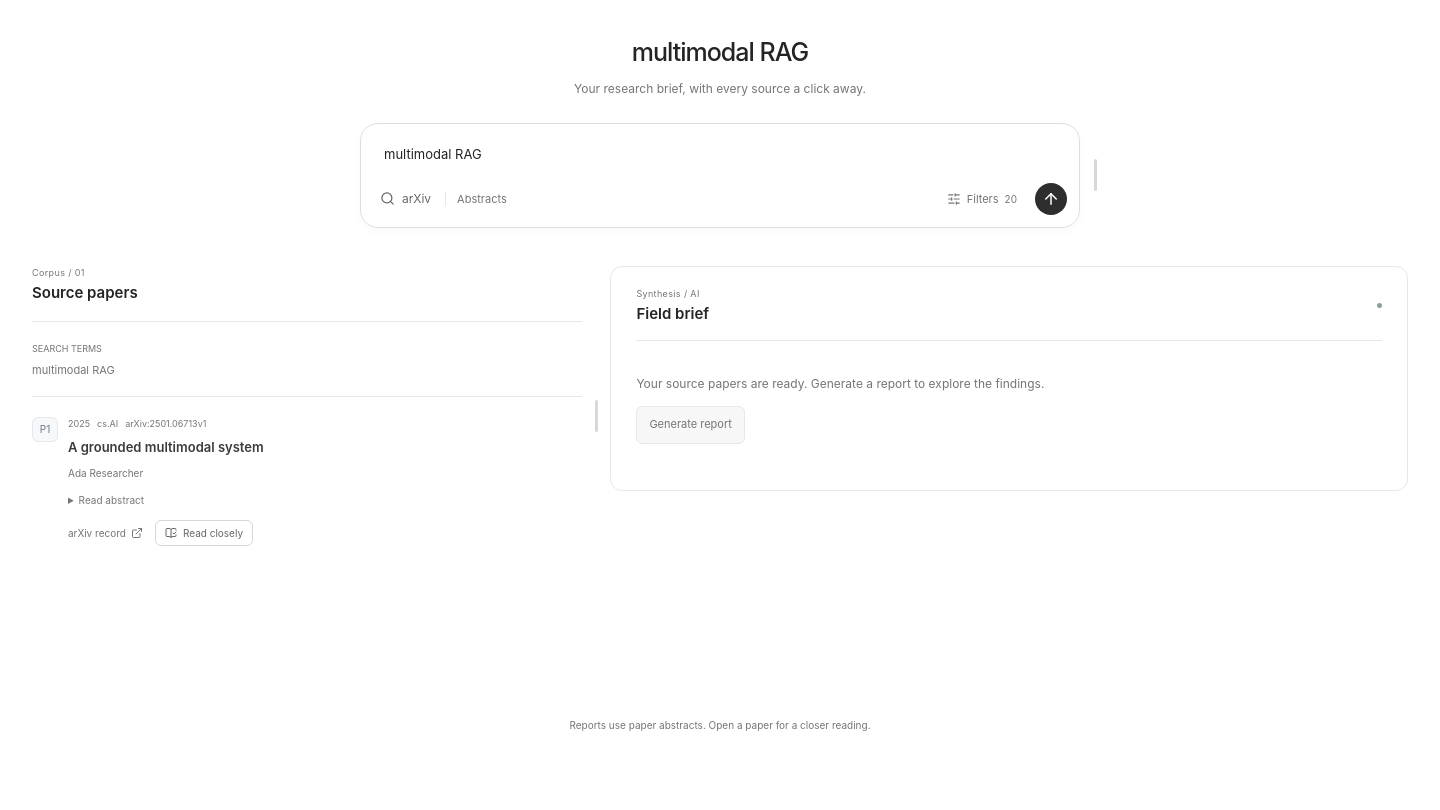
Scenario: ResearchDesk › explains an exhausted model budget without treating it as a completed report
This screenshot has width=1440, height=810.
Click the button "Generate report": (691, 425) [636,406,745,444]
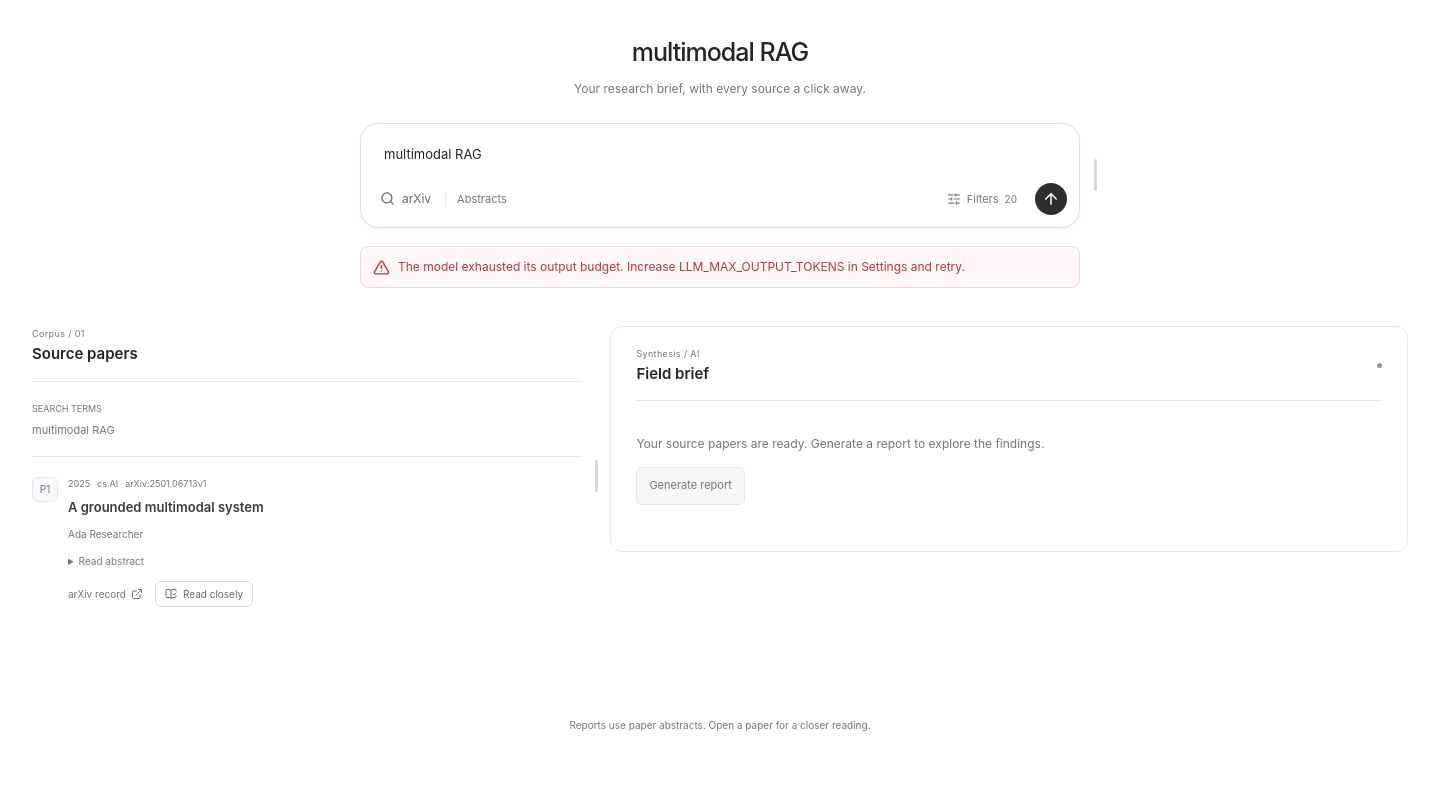
Expected: the button "Generate report" is enabled, [636,467,745,505]
Result: the message shows "LLM_MAX_OUTPUT_TOKENS" at [398,259,965,274]
